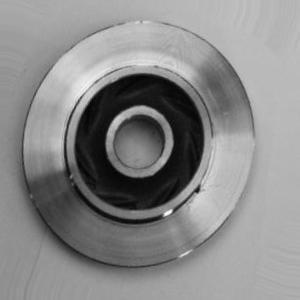defect: (187, 171, 227, 228)
